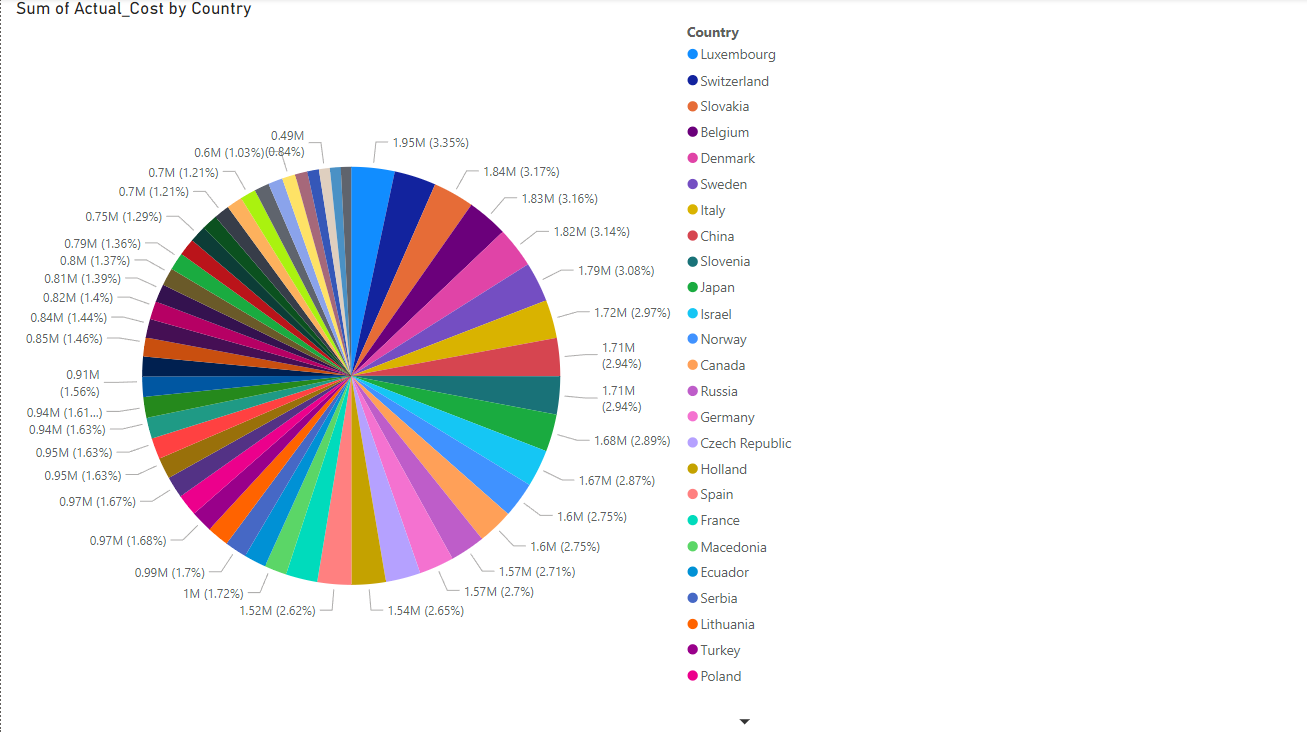

What the dashboard file says about the page in this screenshot:
{"tool":"powerbi","page":{"name":"Countries Pie Chart","canvas":[1280,720],"ordinal":11},"visuals":[{"type":"pieChart","fields":{"Y":["Sum(Dental_Pharma-ProjectData.Actual_Cost)"],"Category":["Dental_Pharma-ProjectData.Country"]},"box":[9.6,0,778,720.4],"z":0}]}

Visuals, with their boxes in screenshot pixels (x1, y1, x2, y2), scaled from the page's 1280x720 canvas onto the 1307x732 screenshot:
pieChart - Sum(Dental_Pharma-ProjectData.Actual_Cost) x Dental_Pharma-ProjectData.Country: Rect(10, 0, 804, 731)
